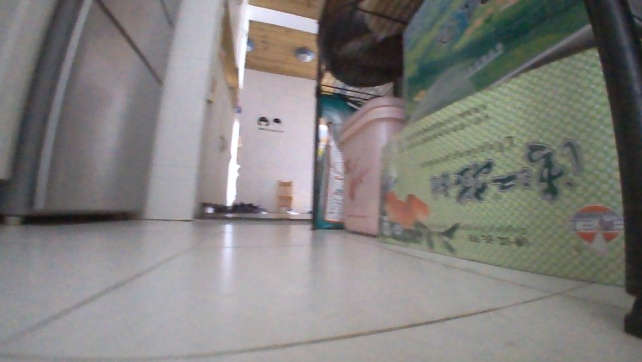refrigerator: (0, 0, 184, 224)
